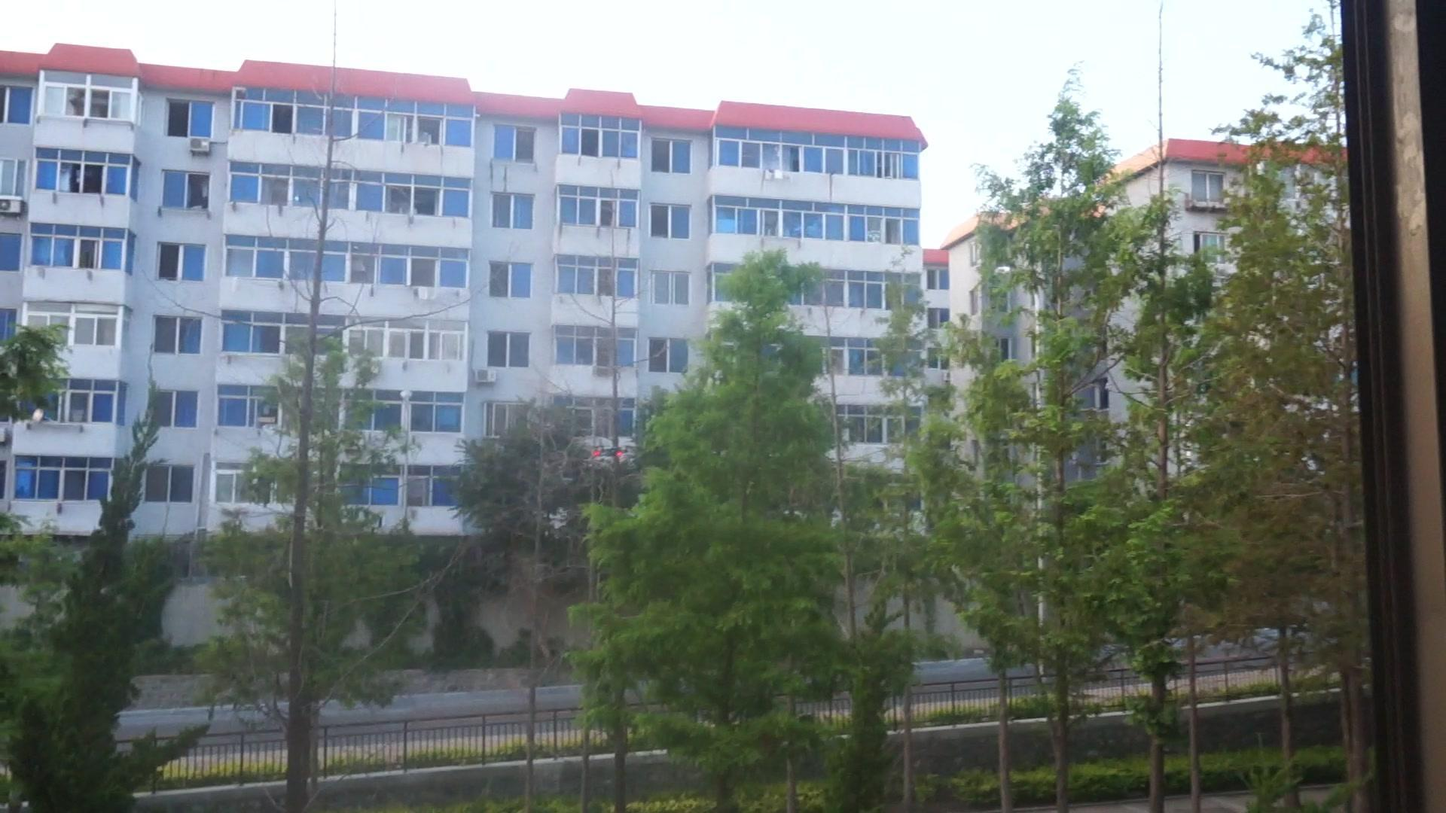UAV: (593, 447, 624, 458)
